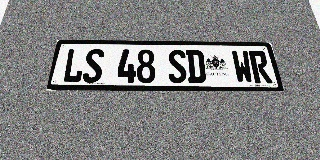4: (117, 49, 137, 83)
8: (136, 49, 155, 83)
D: (186, 50, 206, 83)
L: (61, 49, 86, 83)
R: (248, 51, 273, 83)
S: (82, 49, 105, 83), (168, 50, 187, 83)
W: (231, 50, 254, 83)
